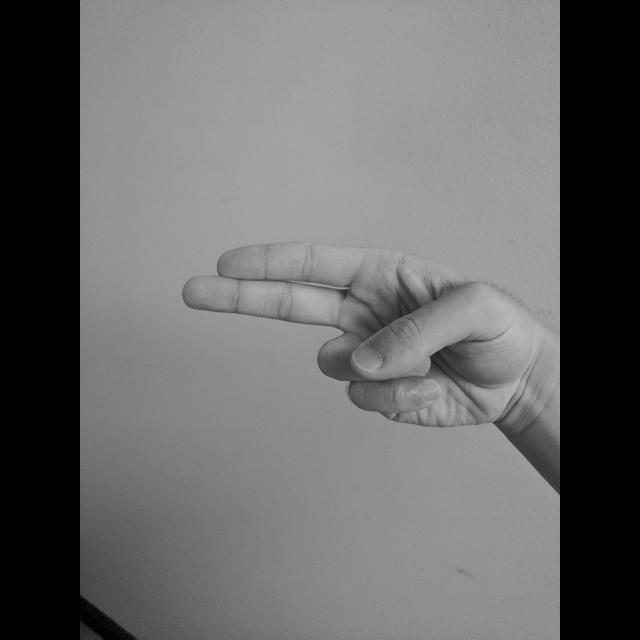H: (177, 237, 537, 433)
